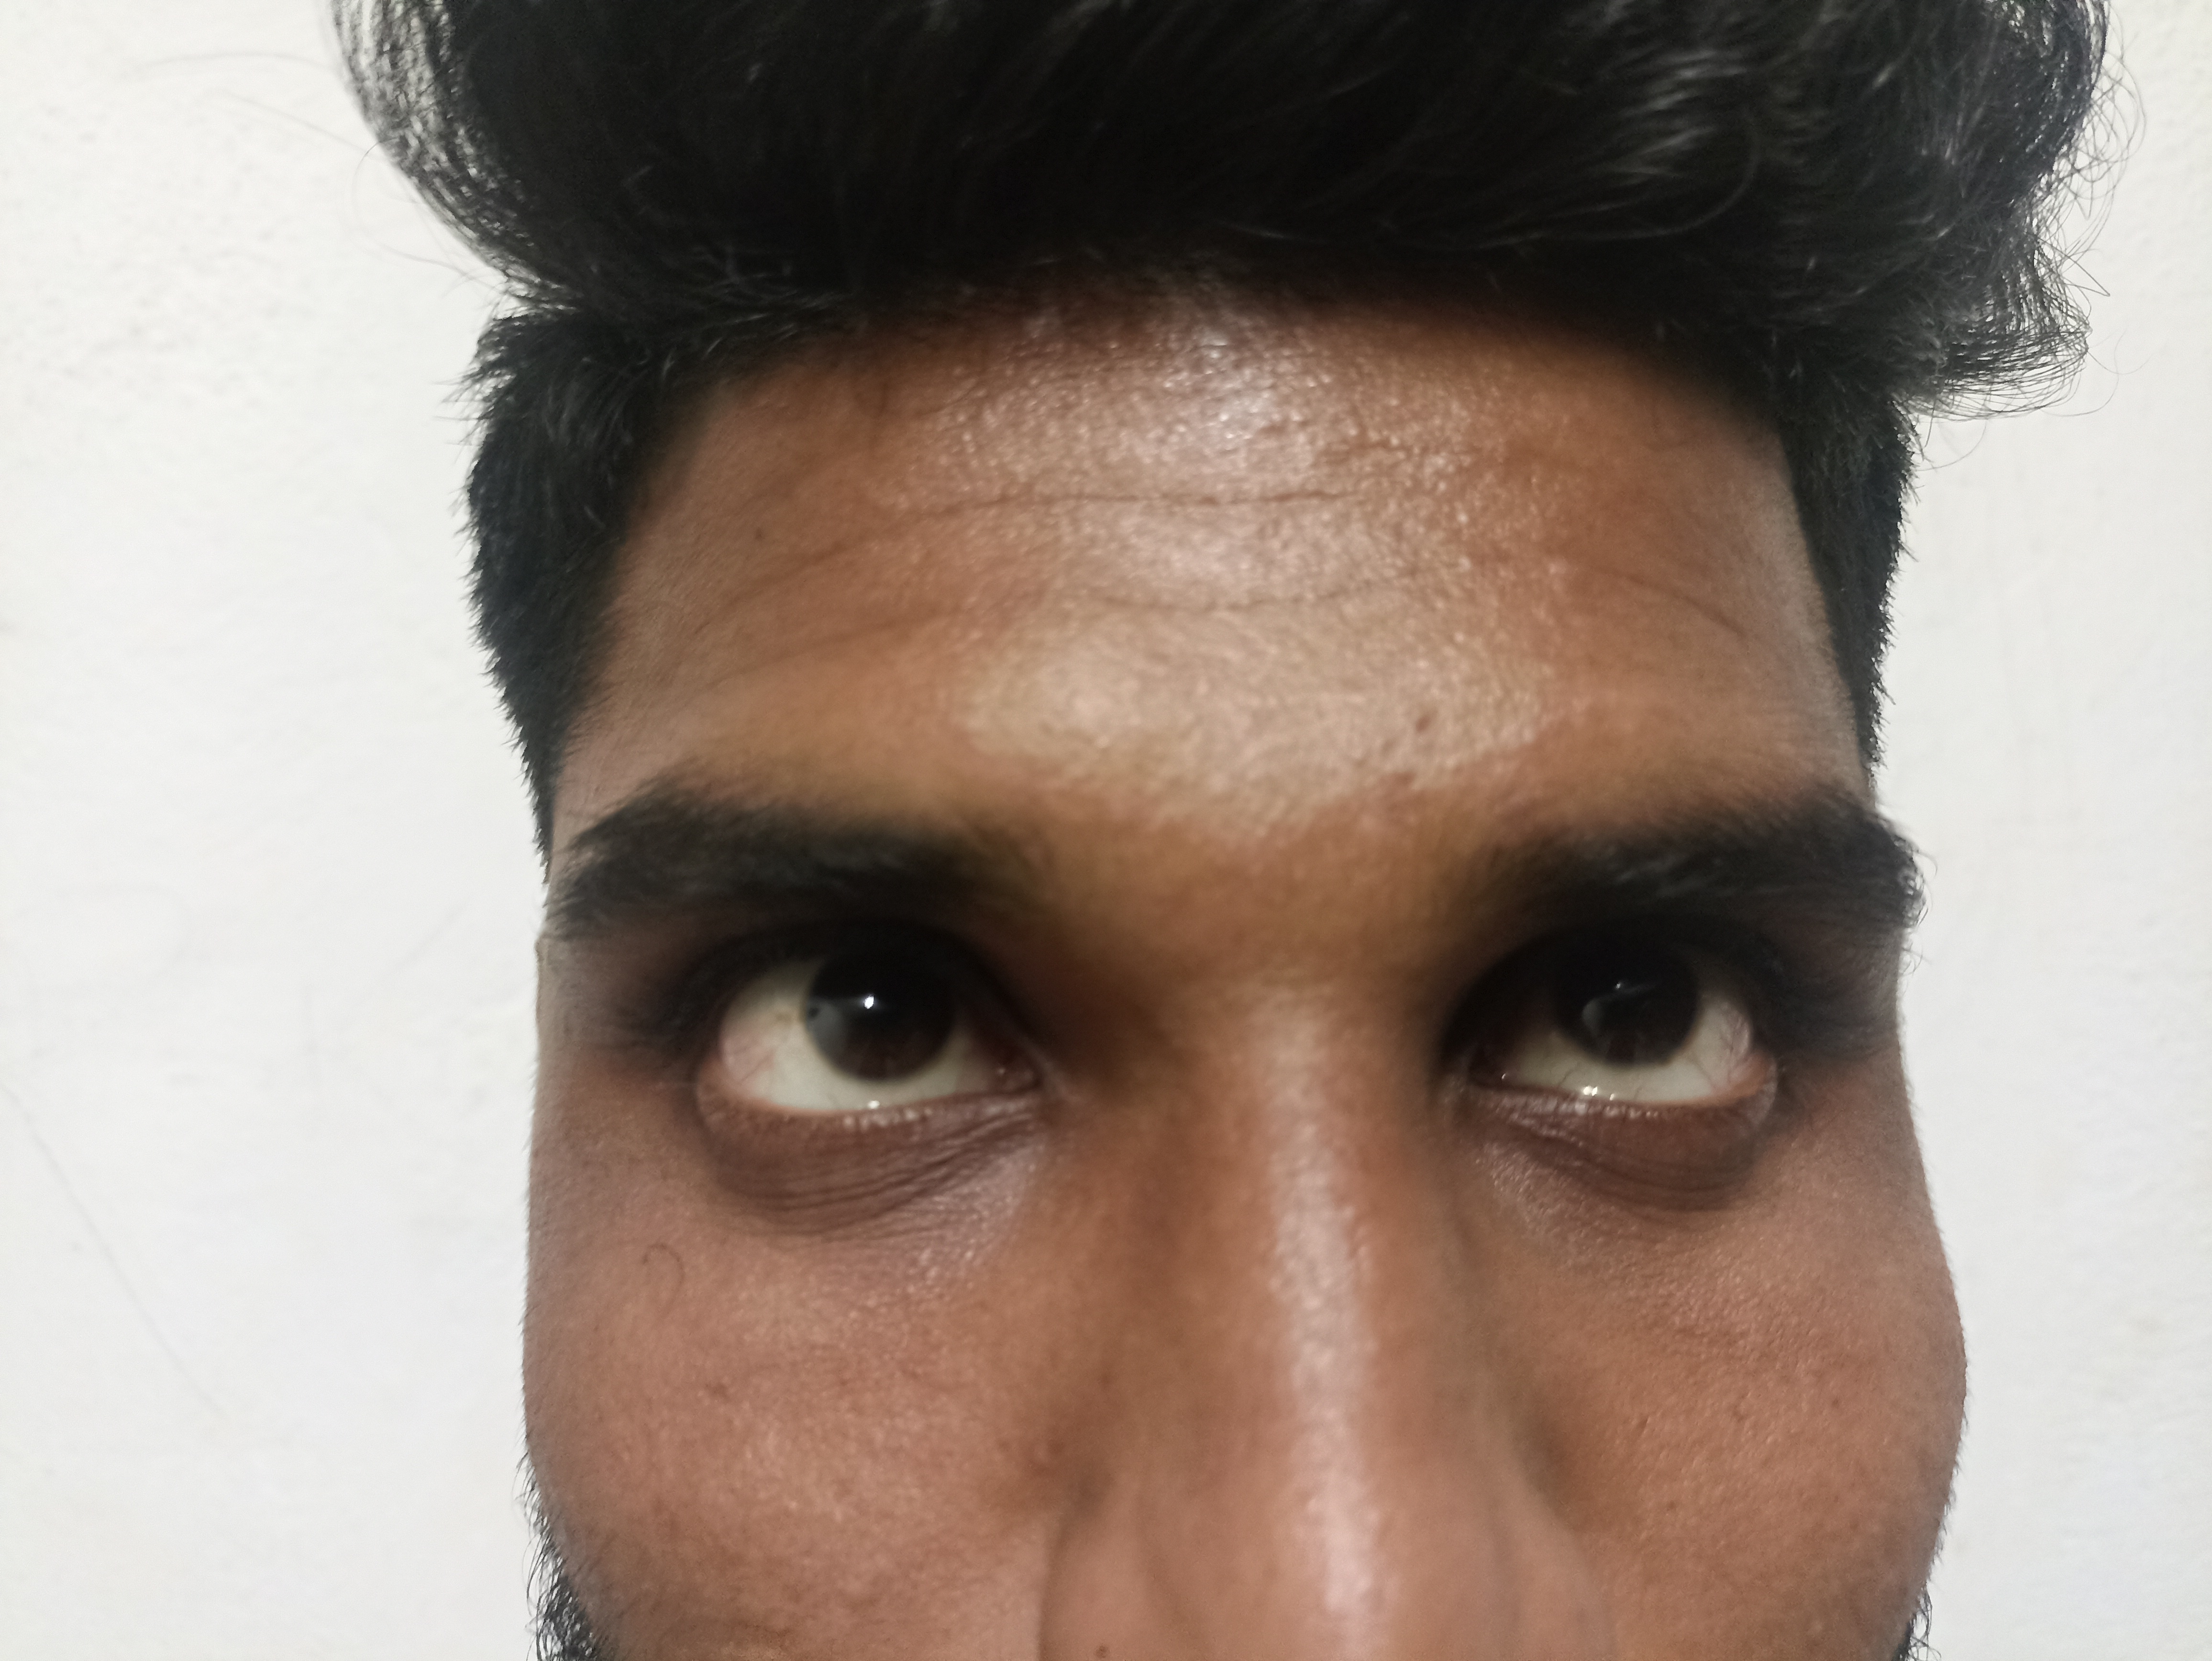EYE UP: (522, 640, 1244, 1246), (1394, 637, 1985, 1272)
